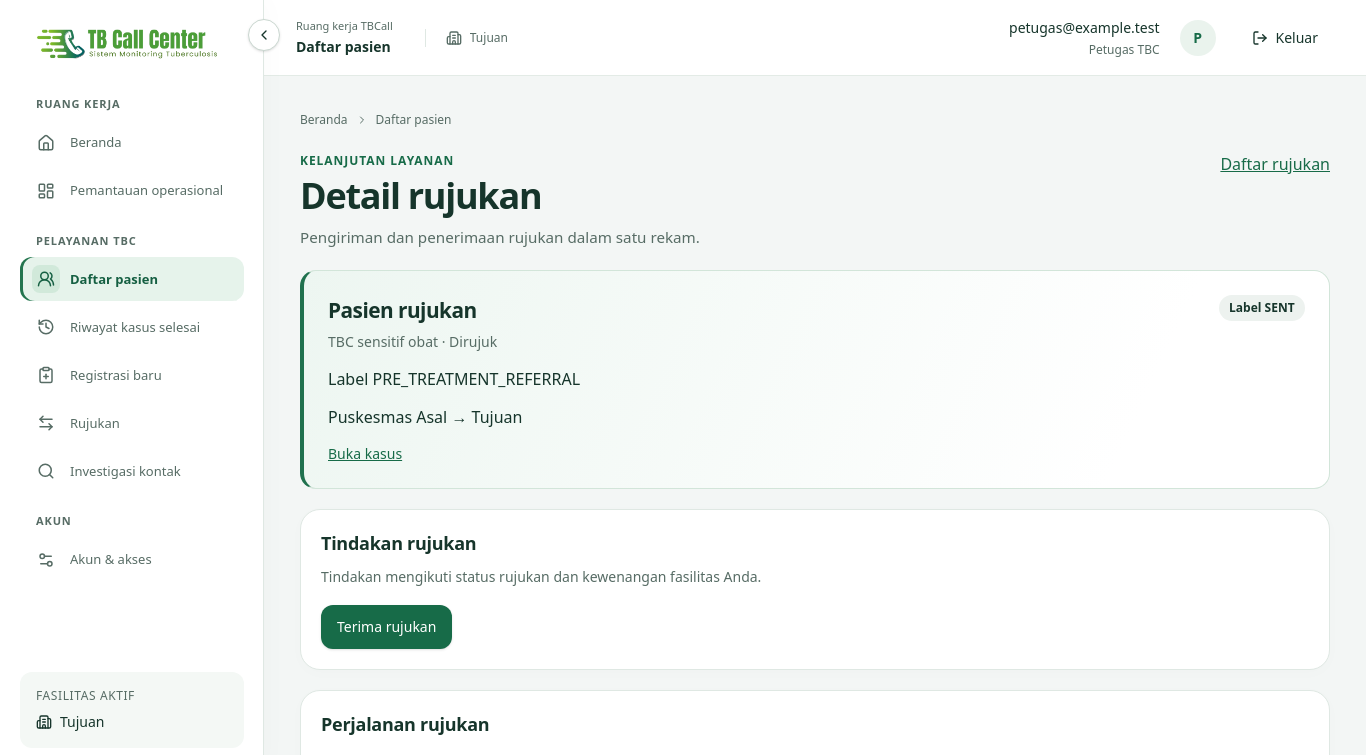
Test case: referral receive submits actual GET ETag and only transition fields
Click the button "Terima rujukan": point(387, 628) [321,606,452,650]
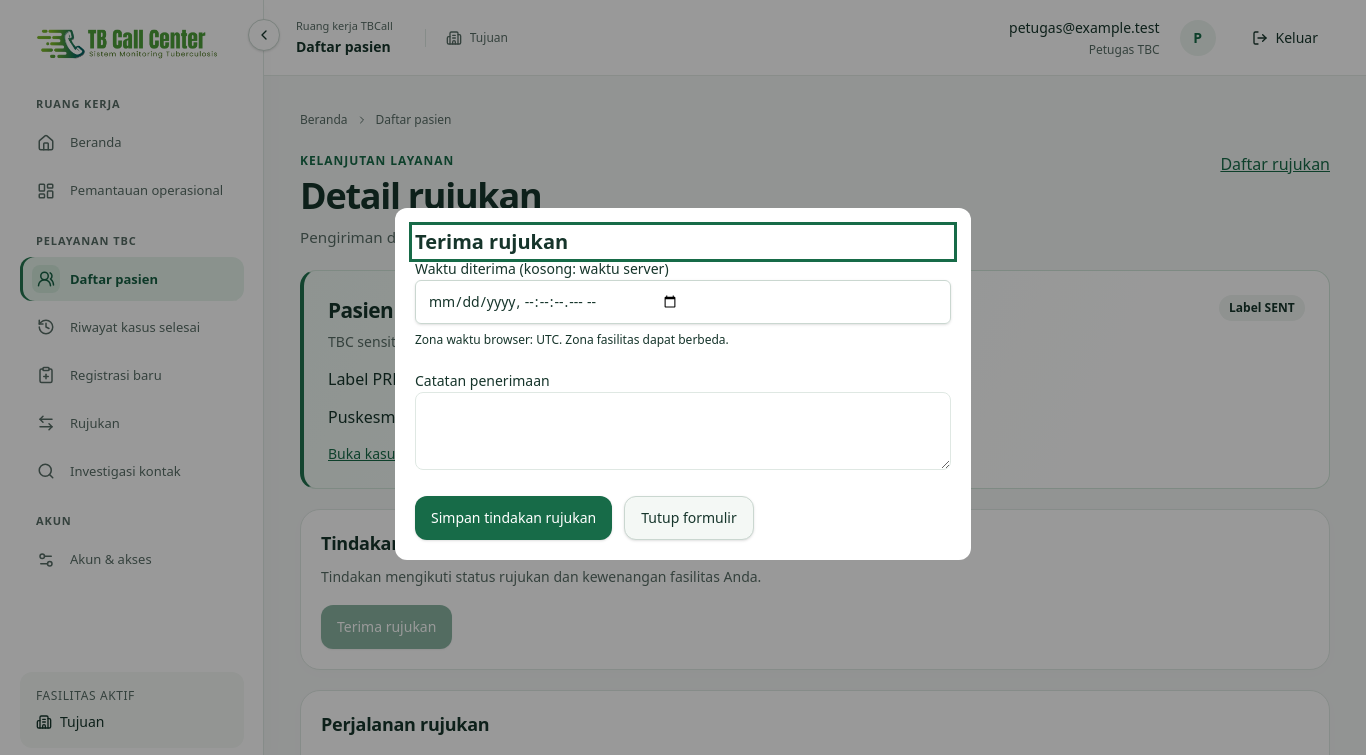
Click the button "Simpan tindakan rujukan": point(514, 518) [415,496,612,540]
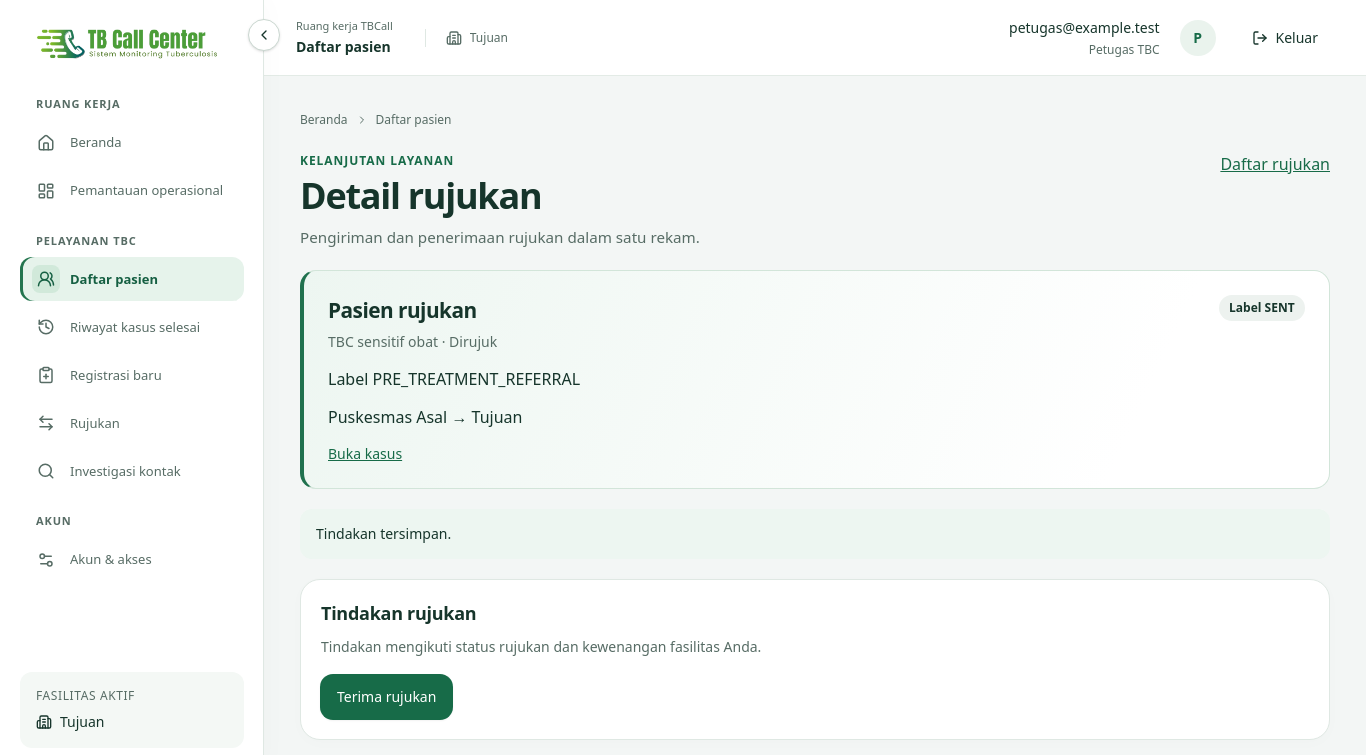
Expected: the text "Tindakan tersimpan." is shown, [300,510,1330,559]
